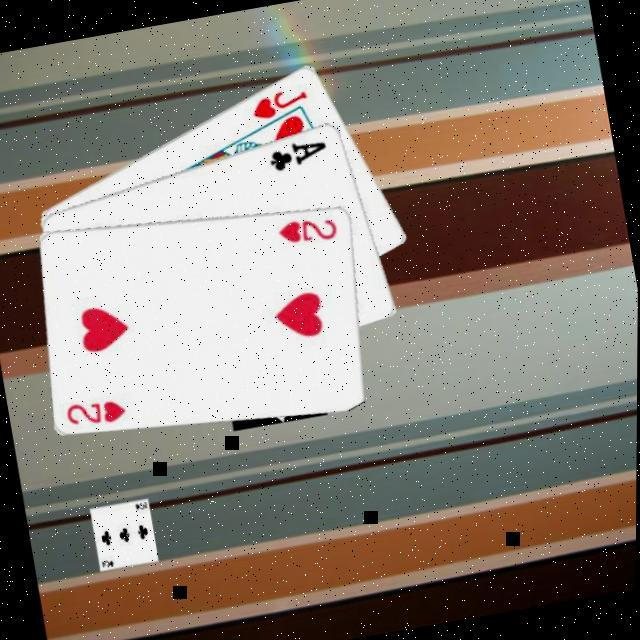2H: (273, 210, 341, 251), (62, 392, 130, 433)
AC: (263, 134, 331, 176)
JH: (246, 84, 312, 124)
